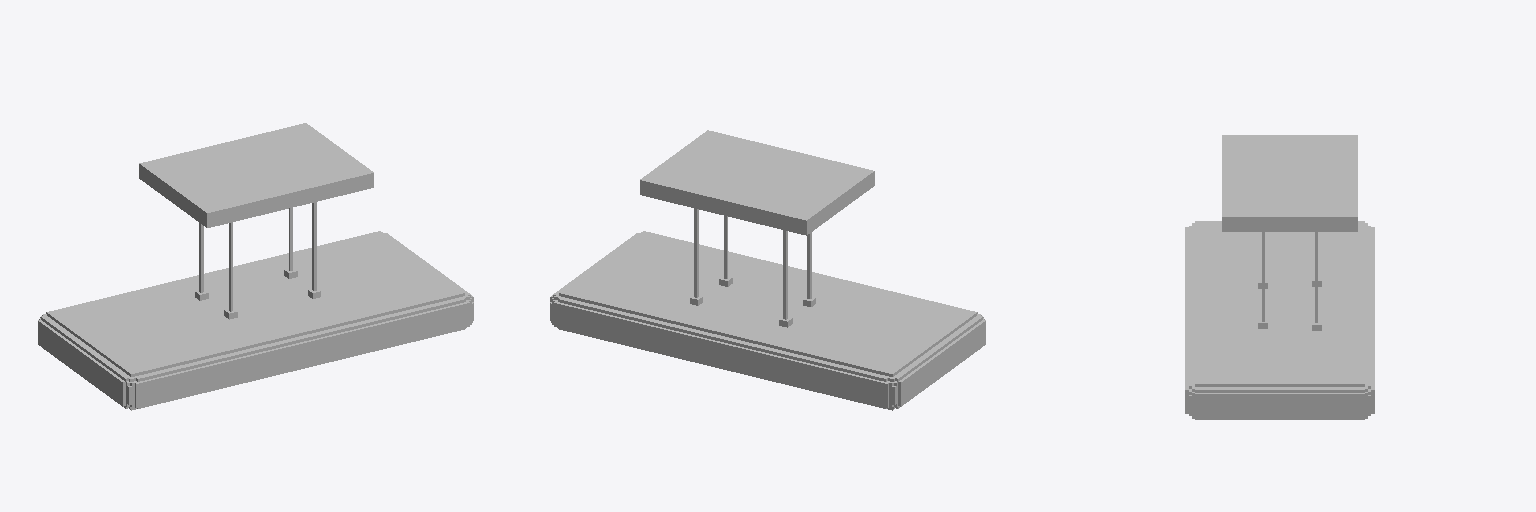
Rendered from lampara techo.obj.
3 renders of one model, left to right at view 1: azimuth 30°, elevation 25°; view 2: azimuth 150°, elevation 25°; view 3: azimuth 270°, elevation 25°, orthographic.
Visible parts, largest first — view 1: object 1; view 2: object 1; view 3: object 1.
Part boxes in pixels (x1,y1,x2,y2): object 1: (38,123,473,410); object 1: (550,130,985,410); object 1: (1185,135,1374,419).
Bounding box in the file's own units: 12.2 × 5.5 × 5.7.